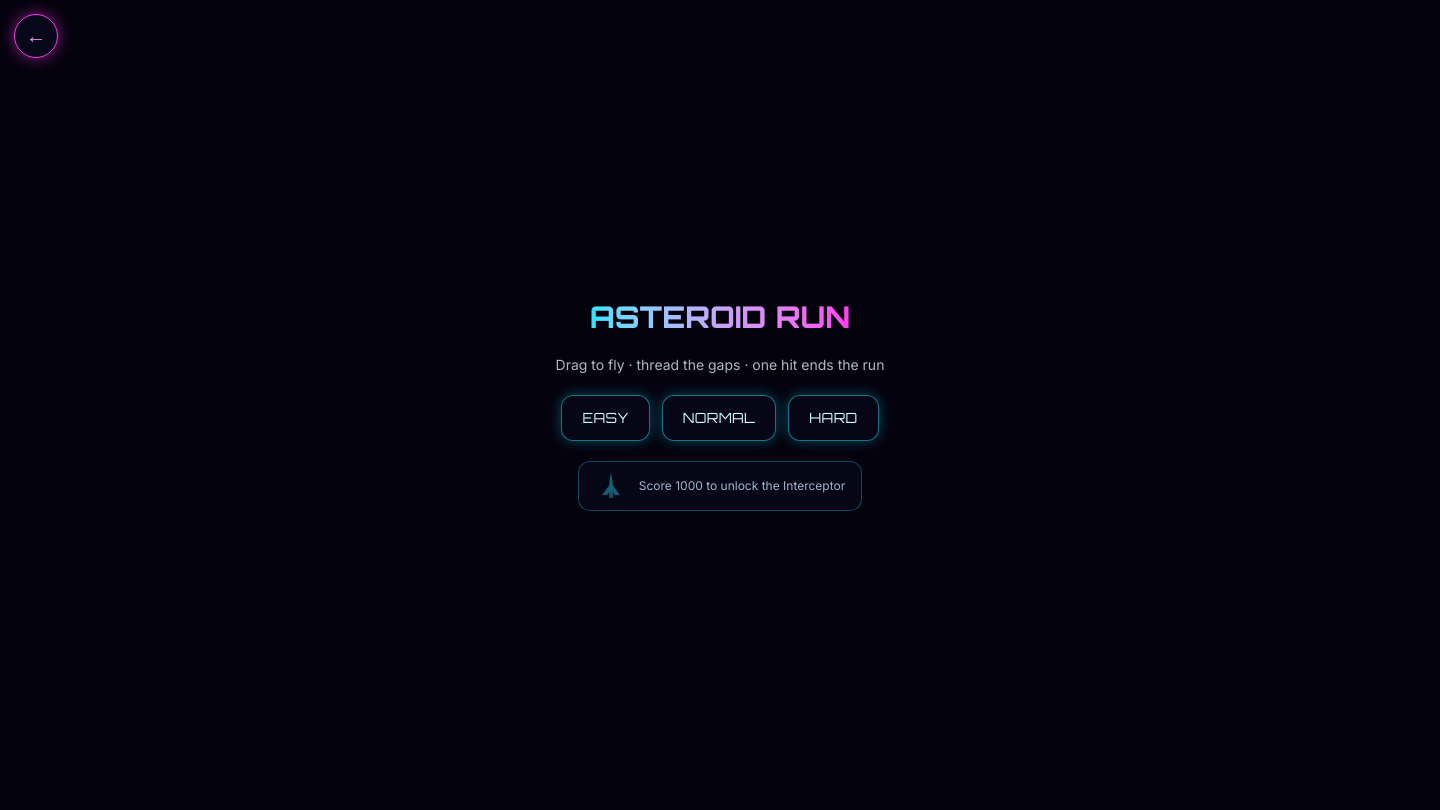
AsteroidGame › menu → playing hides the difficulty buttons on start
What coordinates should you click on to do the following:
click the button "normal"
I would click on:
 (719, 418)
Its box is left=662, top=395, right=776, bottom=441.
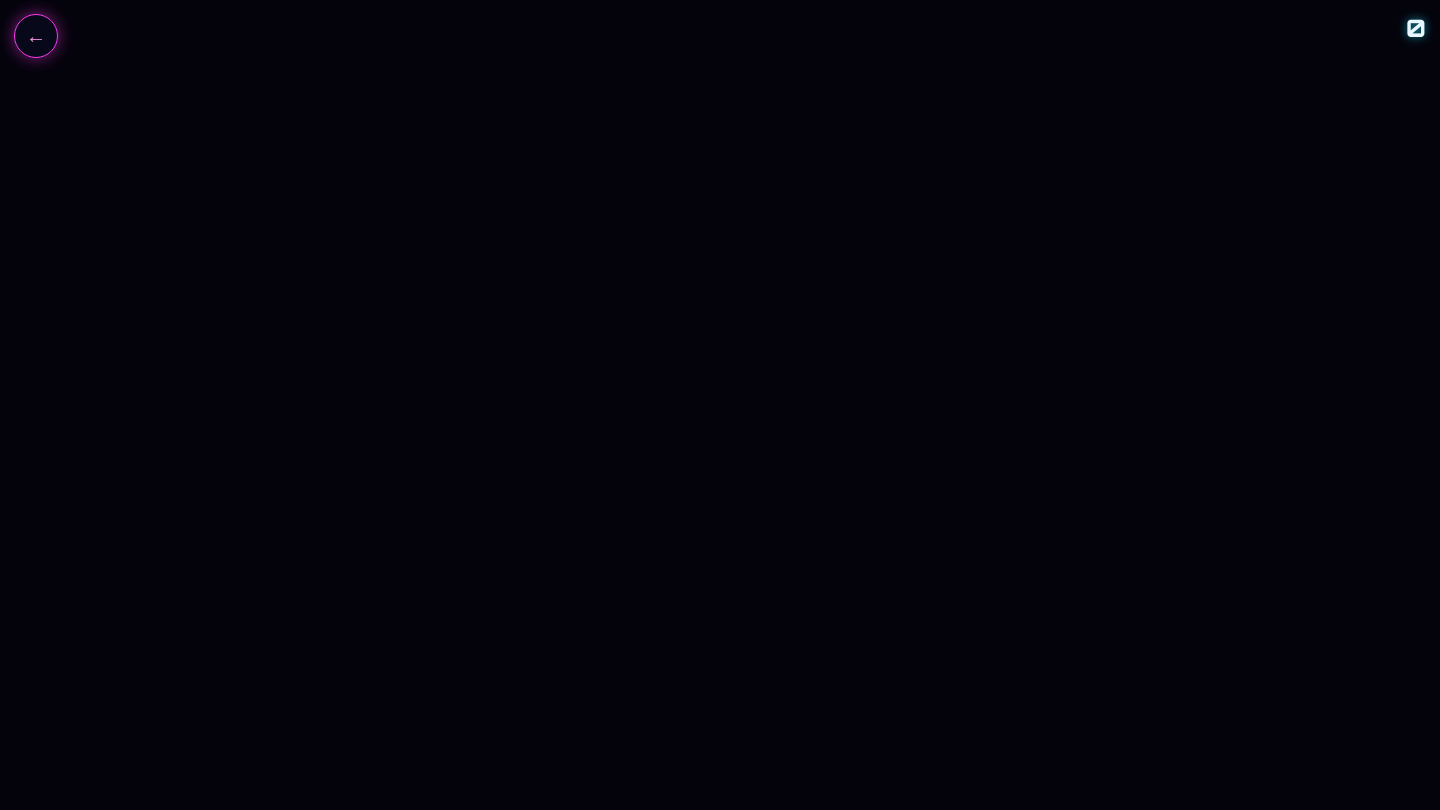
Expected: the button "hard" is gone
